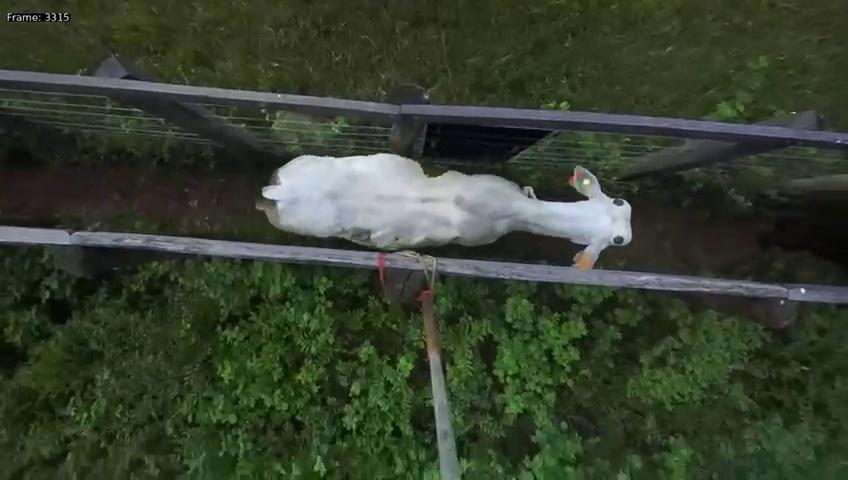cattle: (247, 137, 637, 275)
